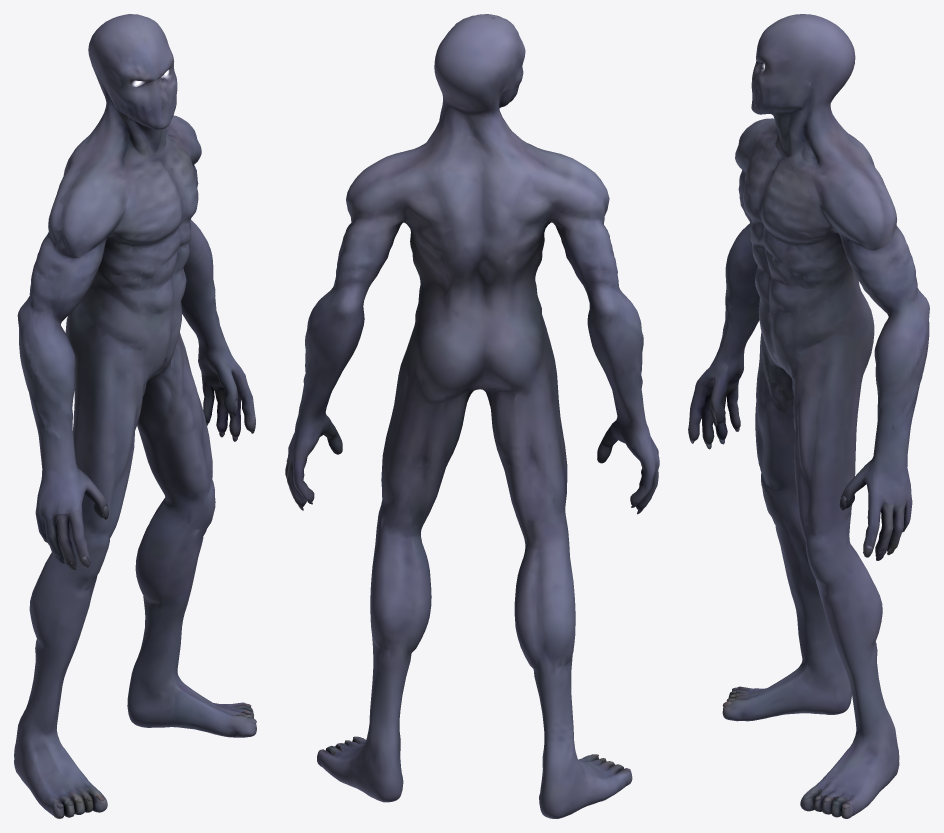
The model's file is MZ4250 - Doppelganger_2_2025.glb.
3 views of the same model, side by side, from view 1: azimuth 30°, elevation 25°; view 2: azimuth 150°, elevation 25°; view 3: azimuth 270°, elevation 25° (orthographic). The views are drawn at different scales.
Parts seen in each view (by area): view 1: Body.002; view 2: Body.002; view 3: Body.002.
Boxes of the visible parts, x1,y1,x2,y2 form: Body.002: (14,14,256,818); Body.002: (285,14,659,818); Body.002: (688,14,929,818).
Size of the model in its own units: 37.35 by 93.03 by 27.64.
Materials: 1 (1 with a texture image).
